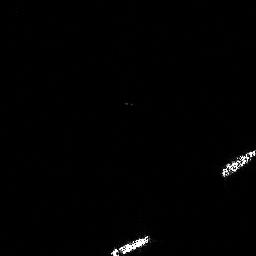ship: (222, 148, 256, 177), (109, 235, 150, 256)
